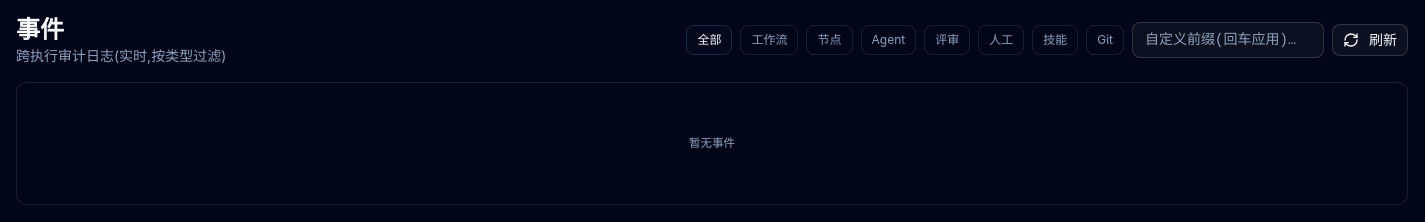
Scenario: EventsAudit 请求竞态 › 旧请求的迟到响应不得覆盖新前缀的结果
Click the button "工作流".
click(770, 40)  # box x1=740 y1=25 x2=798 y2=55
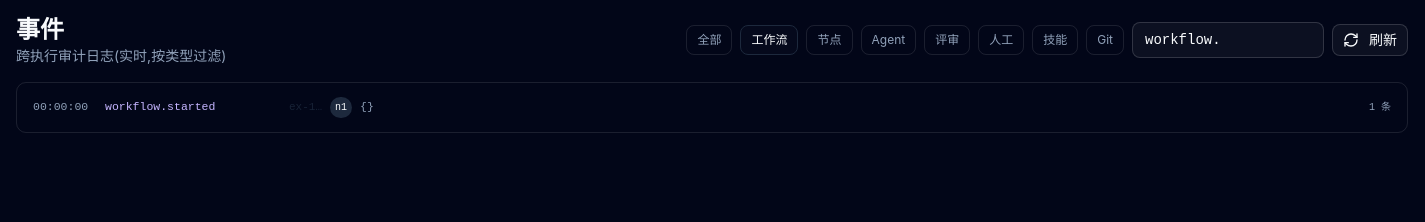
Expected: the text "workflow.started" is shown, x1=105 y1=100 x2=215 y2=113
